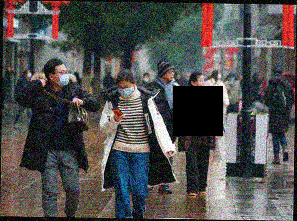with_mask: (55, 68, 70, 88), (117, 84, 135, 98), (142, 74, 151, 84), (215, 70, 223, 81), (230, 74, 237, 83), (27, 70, 33, 80)
without_mask: (194, 76, 207, 92), (164, 68, 176, 82)
